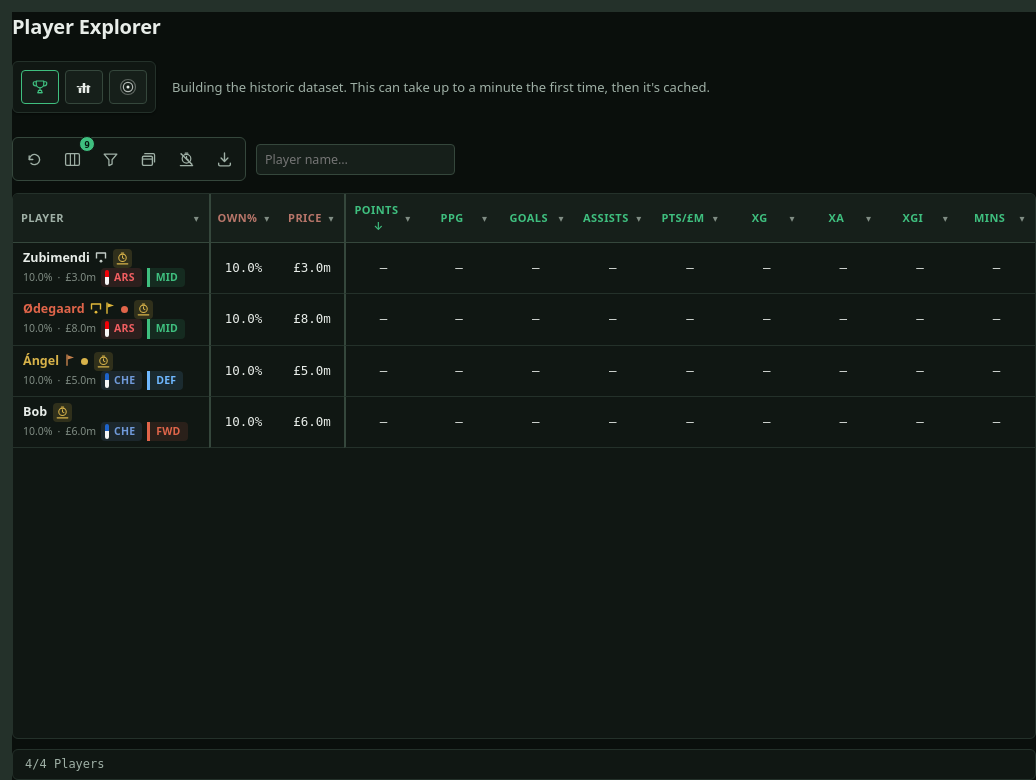
Scenario: Player Explorer — phase 3 findings (2026-09-25 audit, 3-regression.md) › R3: with a number filter on while the historic data is still building, it says so — not 'No players match'
Click the button with class "column-filter-icon" next to "Points" at (408, 218), box [401,211,415,225]
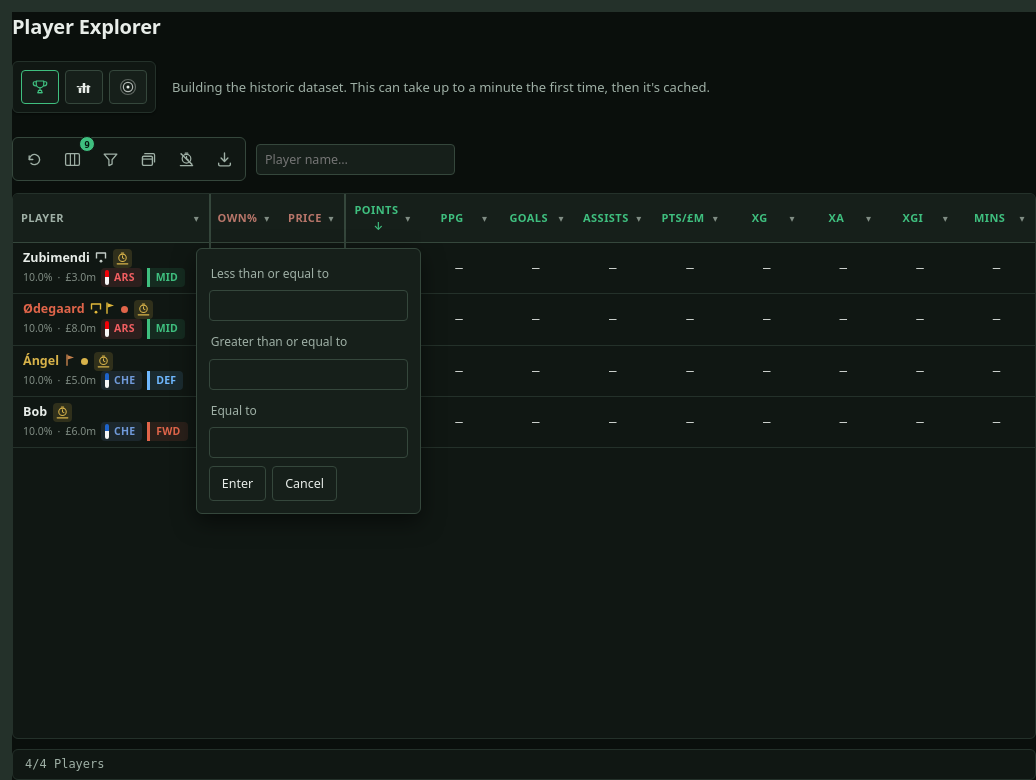
Type "1" into the number field below "Greater than or equal to" at (308, 374), box [209,359,408,390]
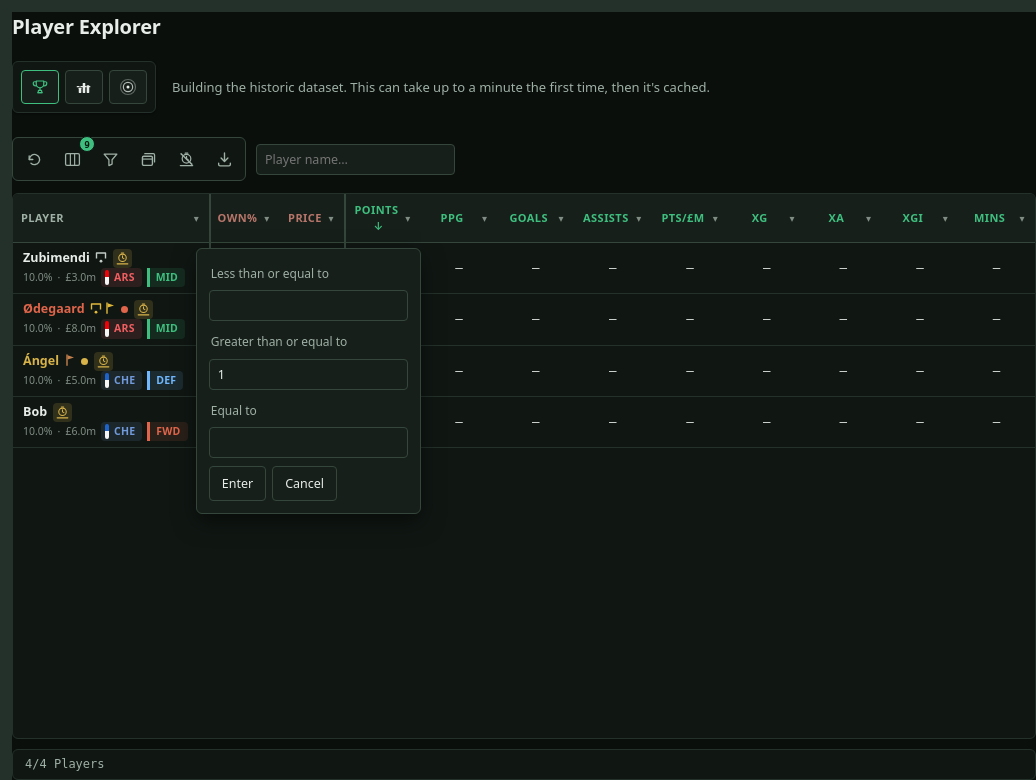
Click the button "Enter" at (238, 484), box [209,466,266,501]
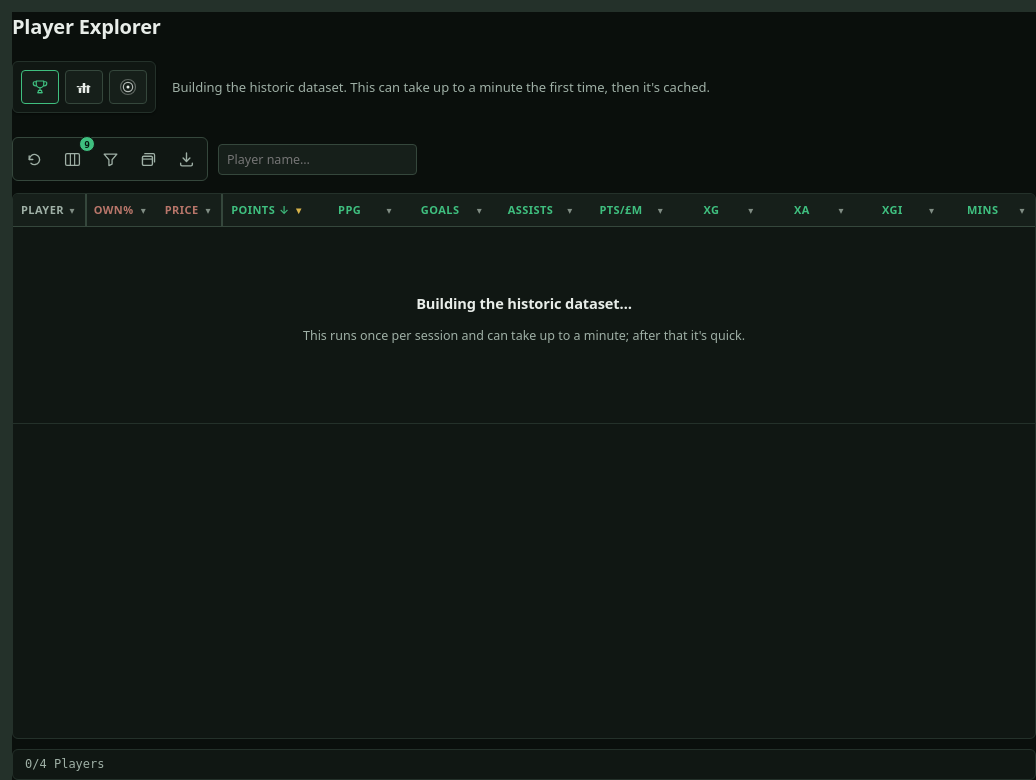
Check: the heading "Building the historic dataset…" is shown, box [416,293,632,313]
